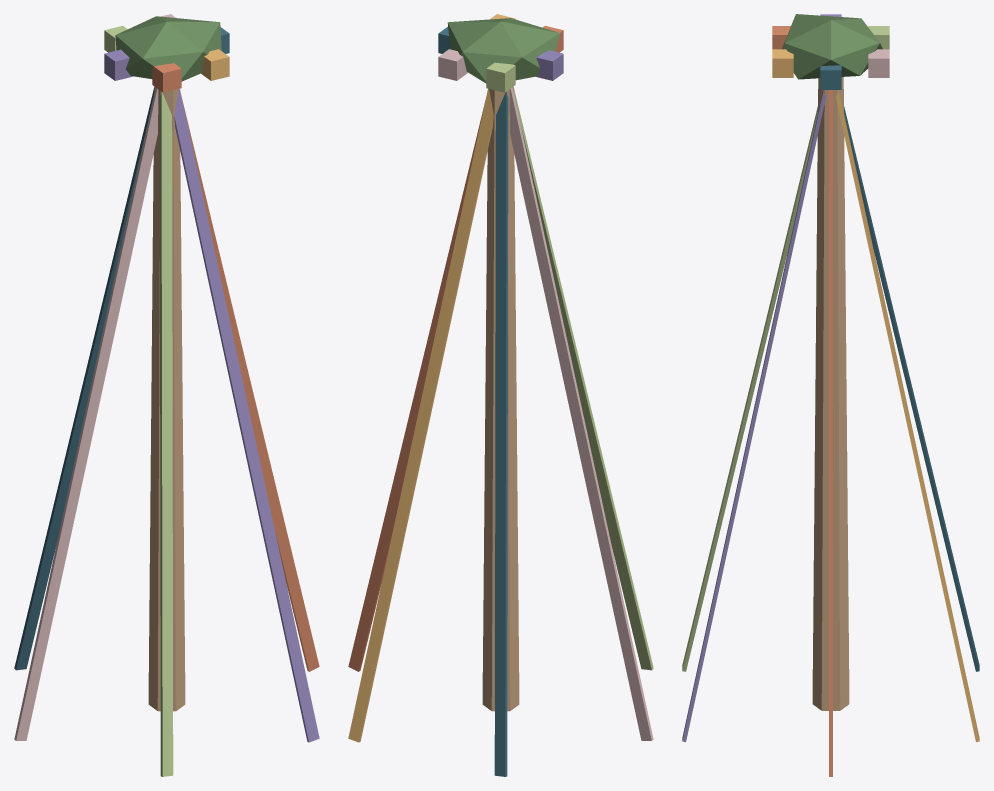
Rendered from maypole.glb.
3 views of the same model, side by side, from view 1: azimuth 30°, elevation 25°; view 2: azimuth 150°, elevation 25°; view 3: azimuth 270°, elevation 25° (orthographic).
Visible parts, largest first — view 1: pole, ribbon4, ribbon5, ribbon3, ribbon2, garland, ribbon0, detail_flower4, detail_flower5, detail_flower3; view 2: pole, ribbon2, ribbon1, ribbon3, ribbon4, garland, ribbon0, detail_flower2, detail_flower1, detail_flower3; view 3: pole, garland, ribbon1, ribbon5, ribbon2, ribbon4, ribbon0, detail_flower5, detail_flower1, detail_flower0.
Boxes of the visible parts, bbox=[...] form: pole: bbox=[148, 86, 185, 711]; ribbon4: bbox=[159, 92, 173, 776]; ribbon5: bbox=[174, 88, 319, 742]; ribbon3: bbox=[14, 87, 158, 740]; ribbon2: bbox=[14, 87, 154, 670]; garland: bbox=[115, 16, 221, 81]; ribbon0: bbox=[182, 100, 319, 671]; detail_flower4: bbox=[152, 63, 181, 92]; detail_flower5: bbox=[201, 49, 229, 80]; detail_flower3: bbox=[104, 49, 133, 80]; pole: bbox=[482, 86, 519, 711]; ribbon2: bbox=[494, 92, 508, 776]; ribbon1: bbox=[348, 88, 493, 742]; ribbon3: bbox=[509, 87, 653, 740]; ribbon4: bbox=[513, 87, 653, 670]; garland: bbox=[447, 18, 559, 83]; ribbon0: bbox=[348, 100, 485, 671]; detail_flower2: bbox=[486, 62, 515, 92]; detail_flower1: bbox=[438, 49, 467, 80]; detail_flower3: bbox=[536, 50, 563, 80]; pole: bbox=[812, 77, 849, 710]; garland: bbox=[782, 14, 882, 79]; ribbon1: bbox=[835, 90, 979, 741]; ribbon5: bbox=[682, 90, 826, 741]; ribbon2: bbox=[844, 106, 979, 671]; ribbon4: bbox=[682, 106, 817, 671]; ribbon0: bbox=[829, 90, 832, 776]; detail_flower5: bbox=[772, 49, 793, 77]; detail_flower1: bbox=[868, 49, 889, 77]; detail_flower0: bbox=[820, 65, 841, 89].
Bounding box in the file's own units: 1.14 × 2.45 × 0.9644.
